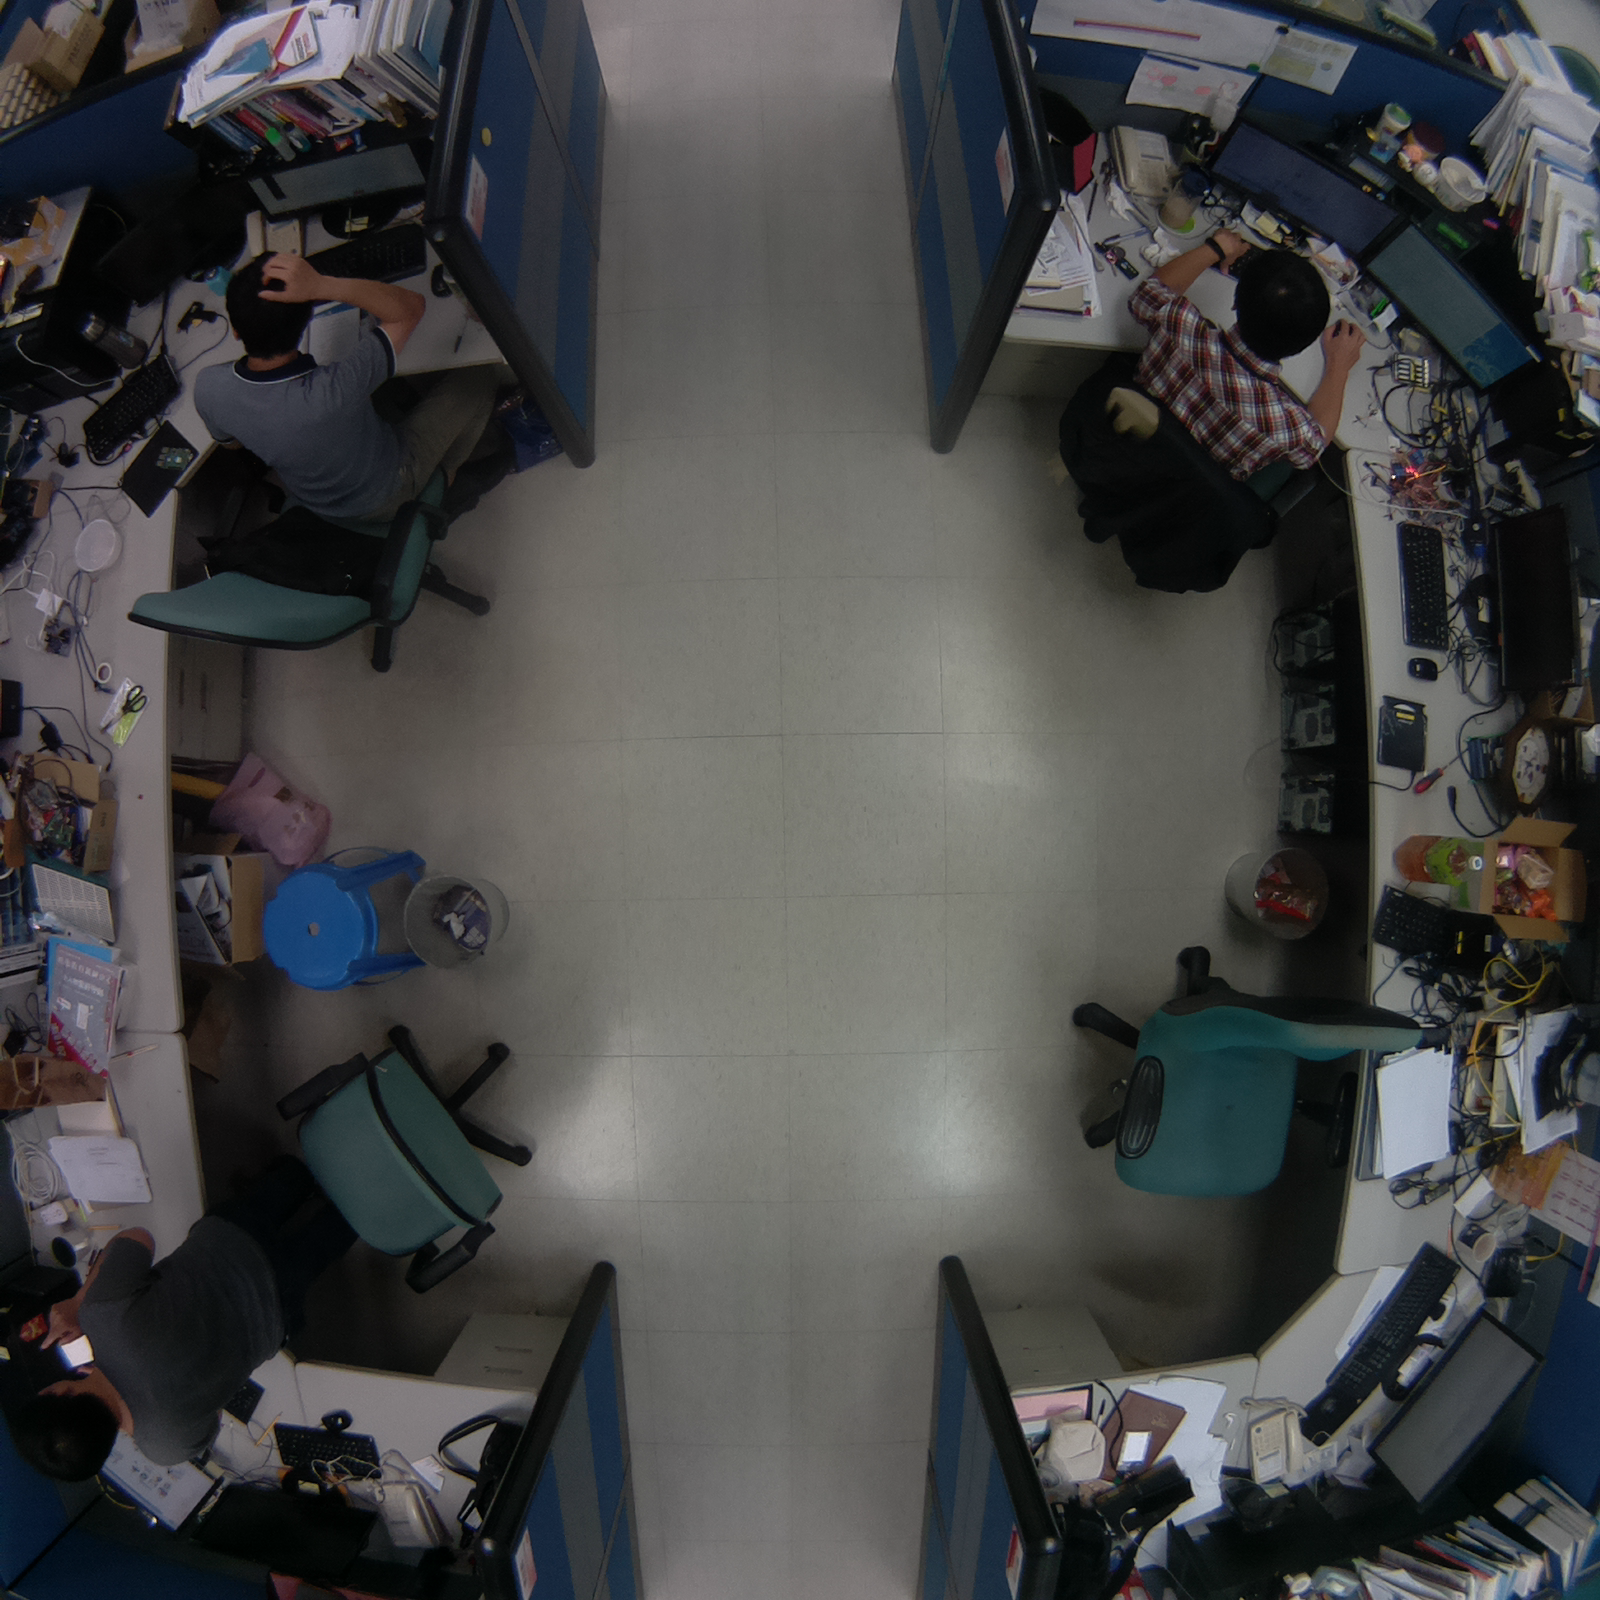chair: (1042, 929, 1422, 1214), (255, 1004, 568, 1291)
head: (10, 1372, 126, 1488), (1230, 242, 1337, 359), (214, 249, 318, 367)
sitting: (119, 243, 553, 688), (1032, 229, 1371, 614)
standing: (1, 1144, 361, 1495)
